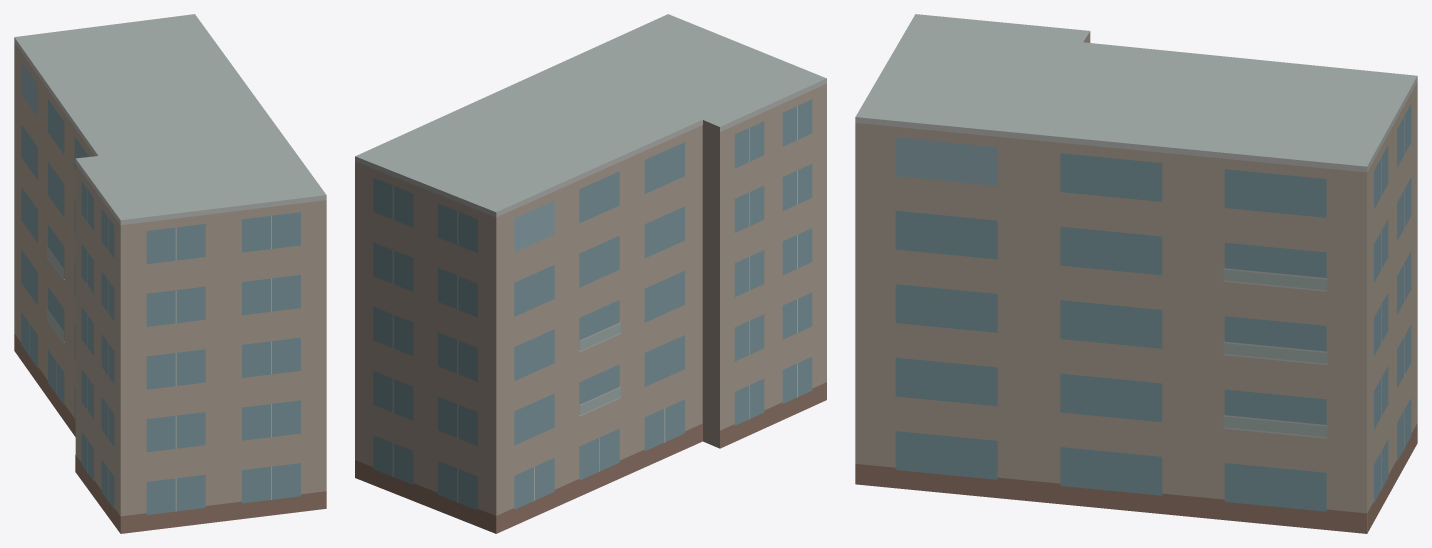
Rendered from survey-upis-32813484.glb.
The picture shows the model from 3 angles, left to right: view 1: azimuth 30°, elevation 25°; view 2: azimuth 150°, elevation 25°; view 3: azimuth 270°, elevation 25°; orthographic projection. The views are drawn at different scales.
Visible parts, largest first — view 1: survey-upis-32813484.tmp; view 2: survey-upis-32813484.tmp; view 3: survey-upis-32813484.tmp.
Boxes of the visible parts, box(x1,y1,x2,y2) form: survey-upis-32813484.tmp: box(14, 14, 326, 533); survey-upis-32813484.tmp: box(355, 14, 826, 533); survey-upis-32813484.tmp: box(855, 14, 1417, 533).
Size of the model in its own units: 13.6 by 15.25 by 21.17.
